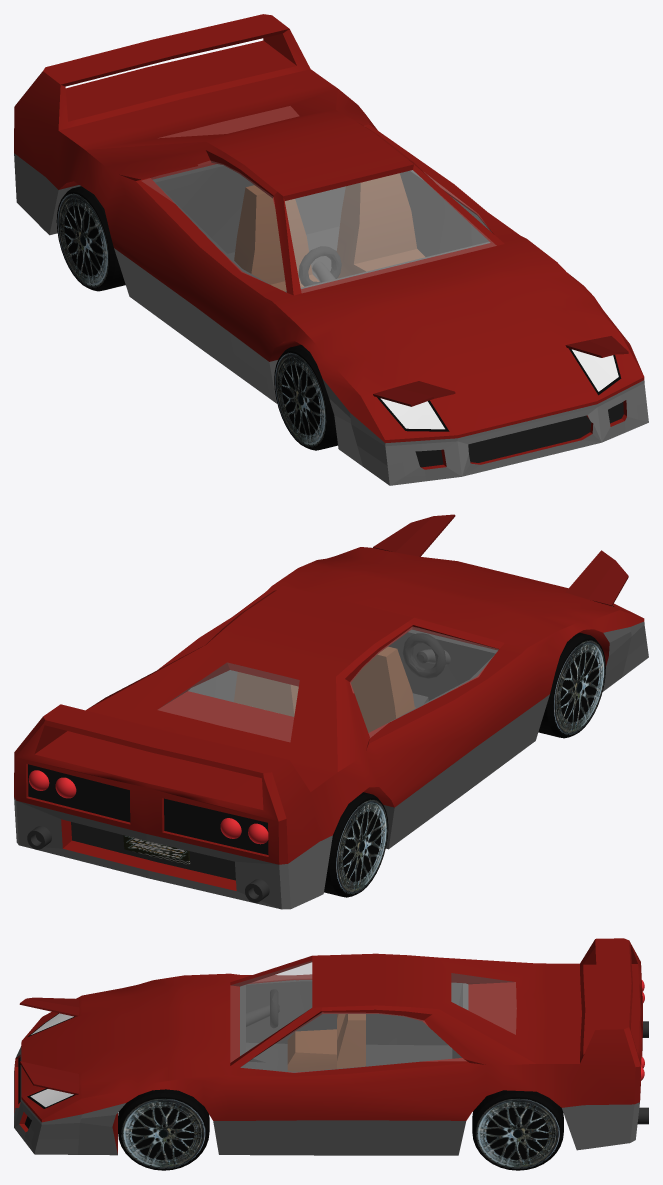
The picture shows the model from 3 angles, top to bottom: view 1: azimuth 30°, elevation 25°; view 2: azimuth 150°, elevation 25°; view 3: azimuth 270°, elevation 25°; orthographic projection. The views are drawn at different scales.
Parts seen in each view (by area): view 1: f40, back_right.001, front_right.001, hoodlights; view 2: f40, back_right.001, front_right.001, hoodlights, number_plate; view 3: f40, back_left.001, front_left.001, hoodlights.
Part boxes in pixels (box(x1,y1,x2,y2)): f40: box(14, 14, 648, 485); back_right.001: box(56, 186, 125, 291); front_right.001: box(274, 345, 337, 450); hoodlights: box(373, 336, 628, 406); f40: box(14, 547, 648, 909); back_right.001: box(324, 792, 388, 897); front_right.001: box(538, 632, 605, 738); hoodlights: box(373, 514, 628, 605); number_plate: box(123, 835, 190, 864); f40: box(14, 938, 648, 1155); back_left.001: box(472, 1090, 563, 1170); front_left.001: box(118, 1089, 209, 1170); hoodlights: box(19, 997, 79, 1094).
Bounding box in the file's own units: 314 × 131 × 74.99.
